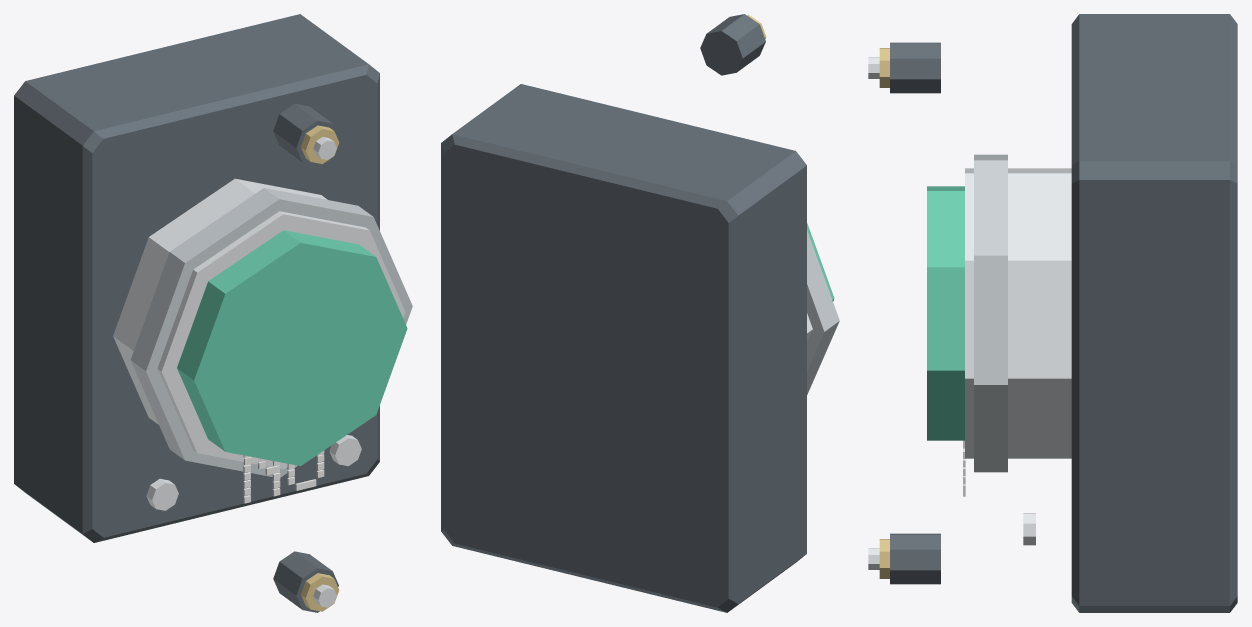
Rendered from pushButtonNO.glb.
The picture shows the model from 3 angles, left to right: view 1: azimuth 30°, elevation 25°; view 2: azimuth 150°, elevation 25°; view 3: azimuth 270°, elevation 25°; orthographic projection. The views are drawn at different scales.
Parts seen in each view (by area): view 1: pushButtonNO-board; view 2: pushButtonNO-board; view 3: pushButtonNO-board.
Part boxes in pixels (x1,y1,x2,y2): pushButtonNO-board: (14,14,412,612); pushButtonNO-board: (441,14,839,612); pushButtonNO-board: (868,14,1237,612).
Size of the model in its own units: 1.33 by 2.11 by 1.31.
